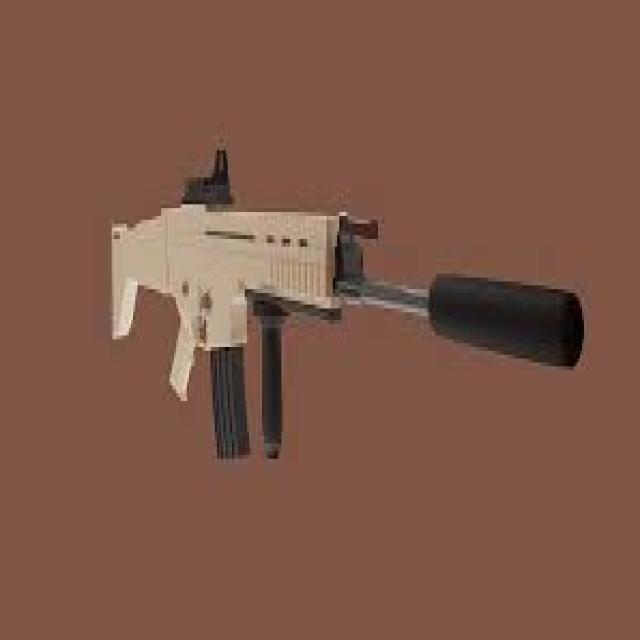Gun: (93, 152, 585, 486)
